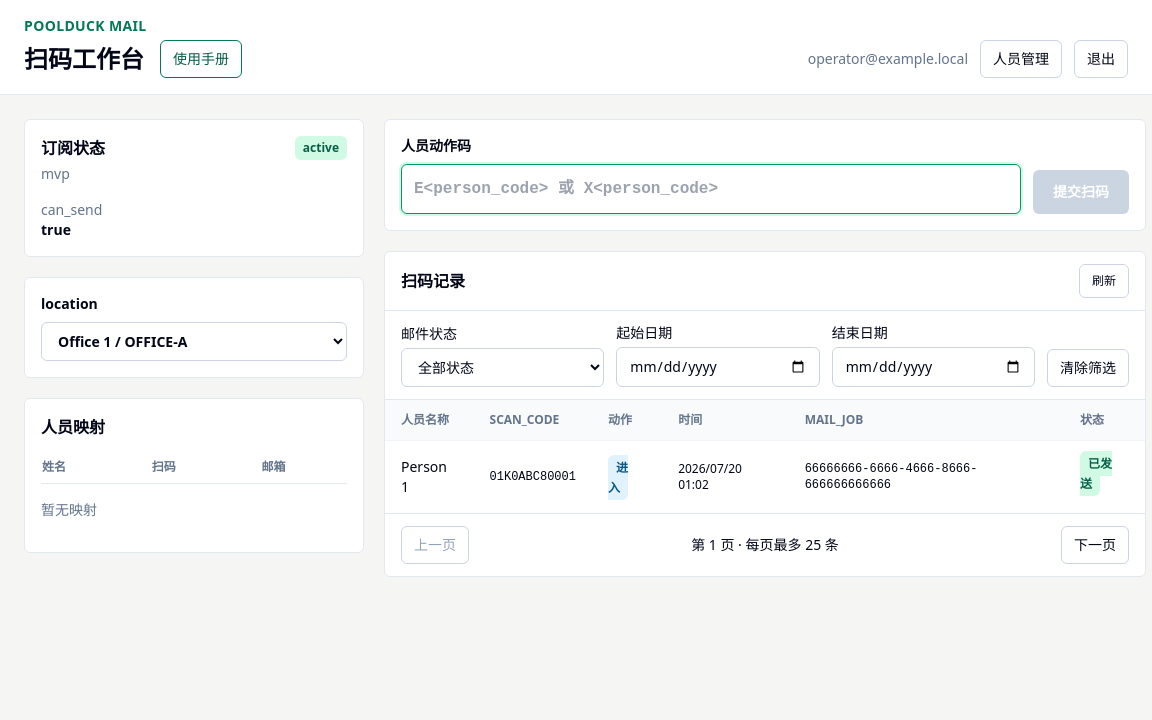
Test: history workspace › sends status and local-day filters to the server and resets cursor on filter or location changes
The width and height of the screenshot is (1152, 720).
Expected: the text "Person 1" is shown, [385,440,474,513]
Click the button with test id "history-next" at (1095, 545), box [1061,526,1129,564]
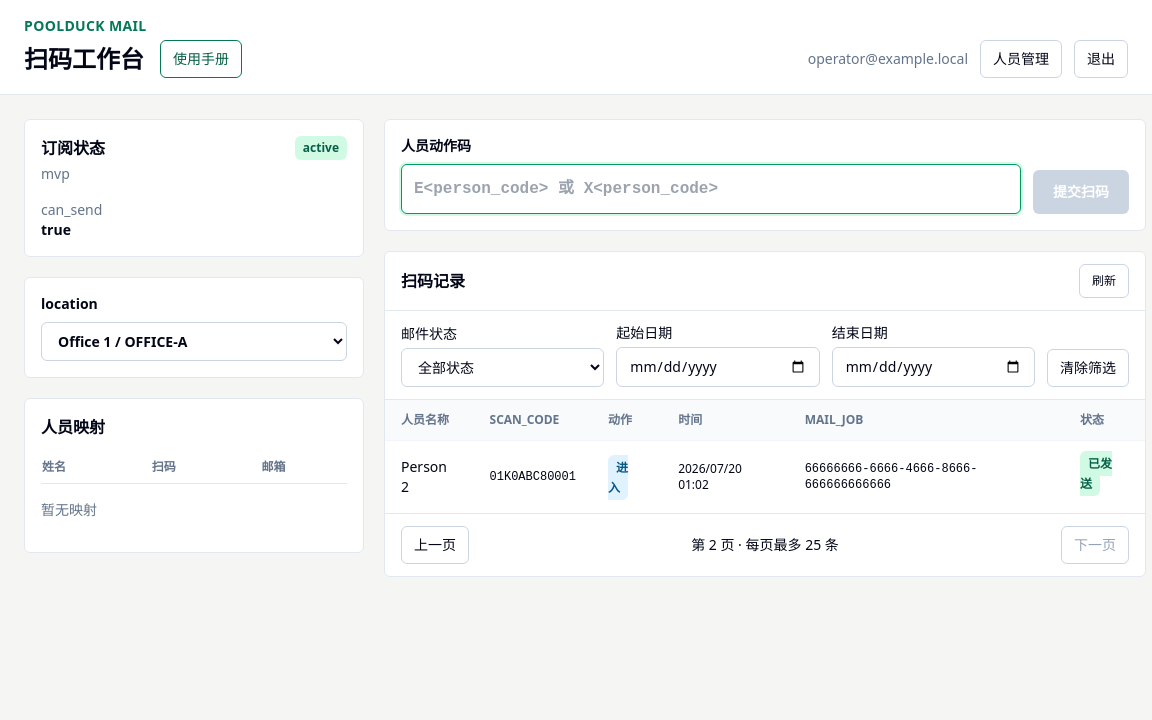
Expected: the text "Person 2" is shown, [385,440,474,513]
Select "可取消等待中（waiting）" in the dropdown with test id "history-status-filter" at (503, 368), box [401,348,604,387]
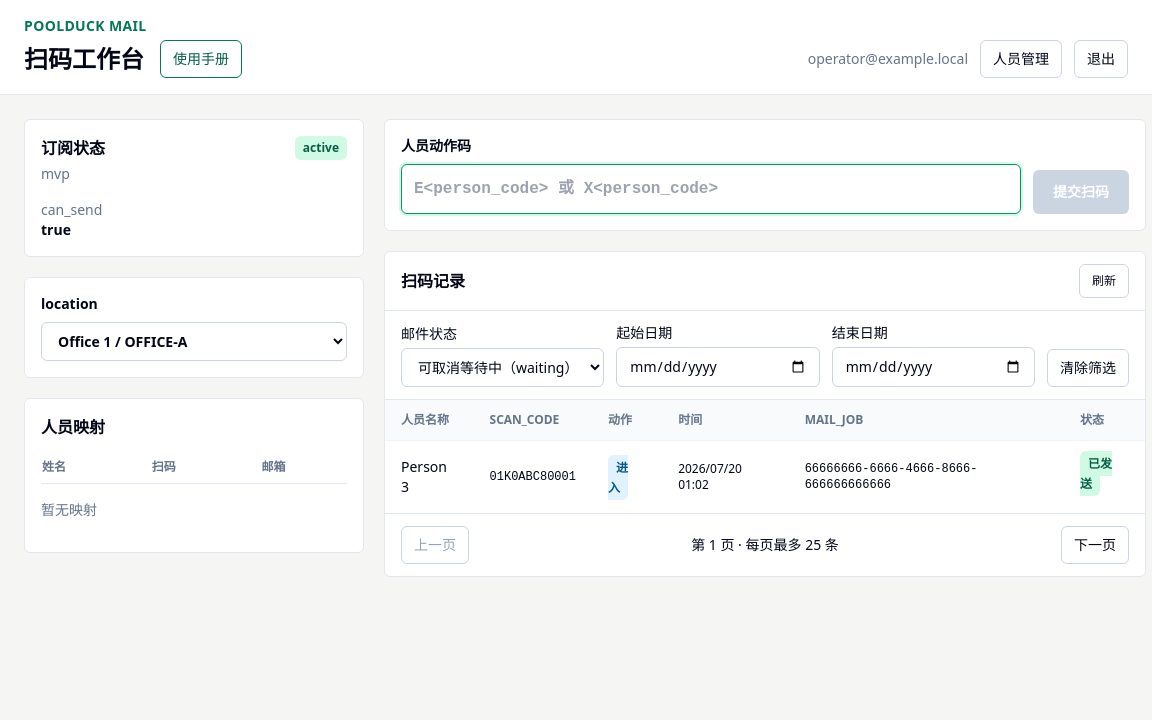
Expected: the text "Person 3" is shown, [385,440,474,513]
Expected: the text "第 1 页 · 每页最多 25 条" is shown, [691,535,839,555]
Type "2026-07-01" into the date field with test id "history-from-filter" at (718, 367), box [616,347,820,387]
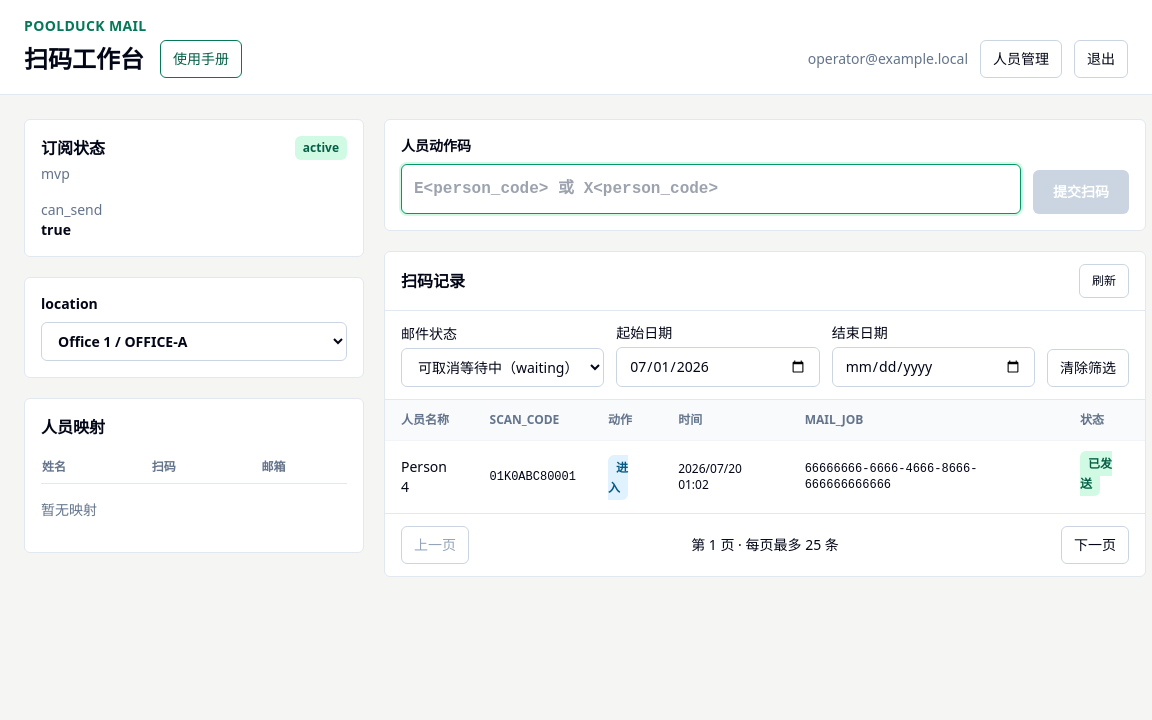
Expected: the text "Person 4" is shown, [385,440,474,513]
Type "2026-07-02" into the date field with test id "history-to-filter" at (933, 367), box [832,347,1035,387]
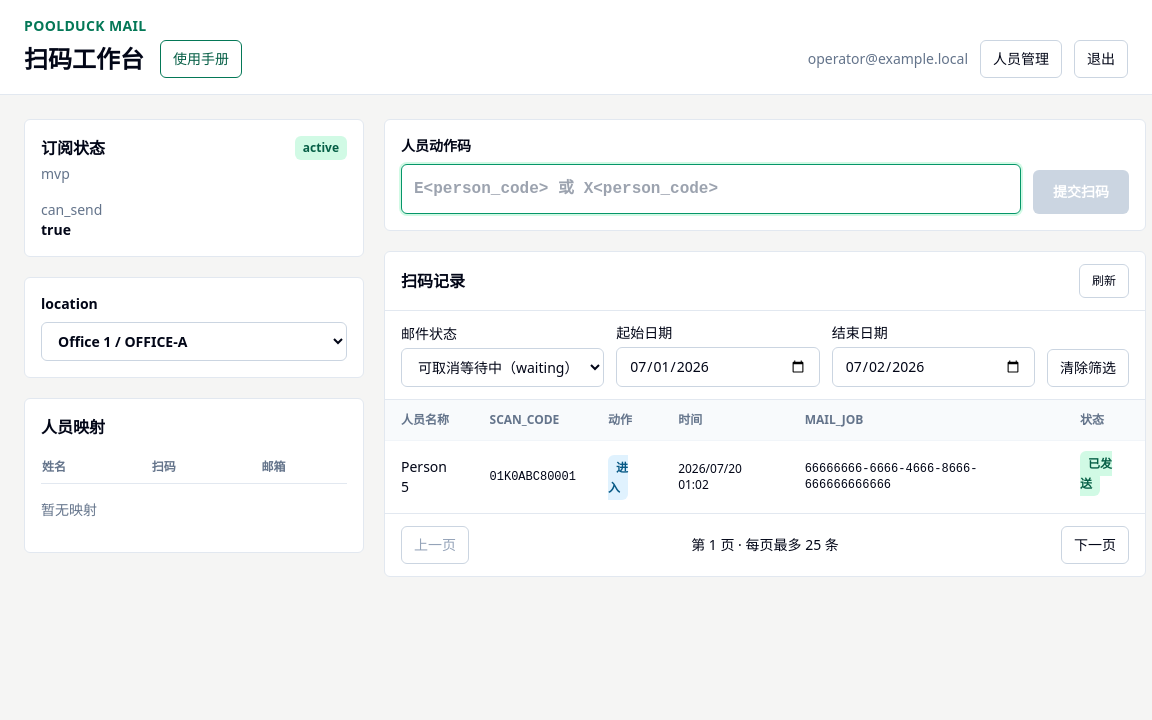
Expected: the text "Person 5" is shown, [385,440,474,513]
Select "Office 2 / OFFICE-A" in the dropdown with test id "location-select" at (194, 342), box [41,322,347,361]
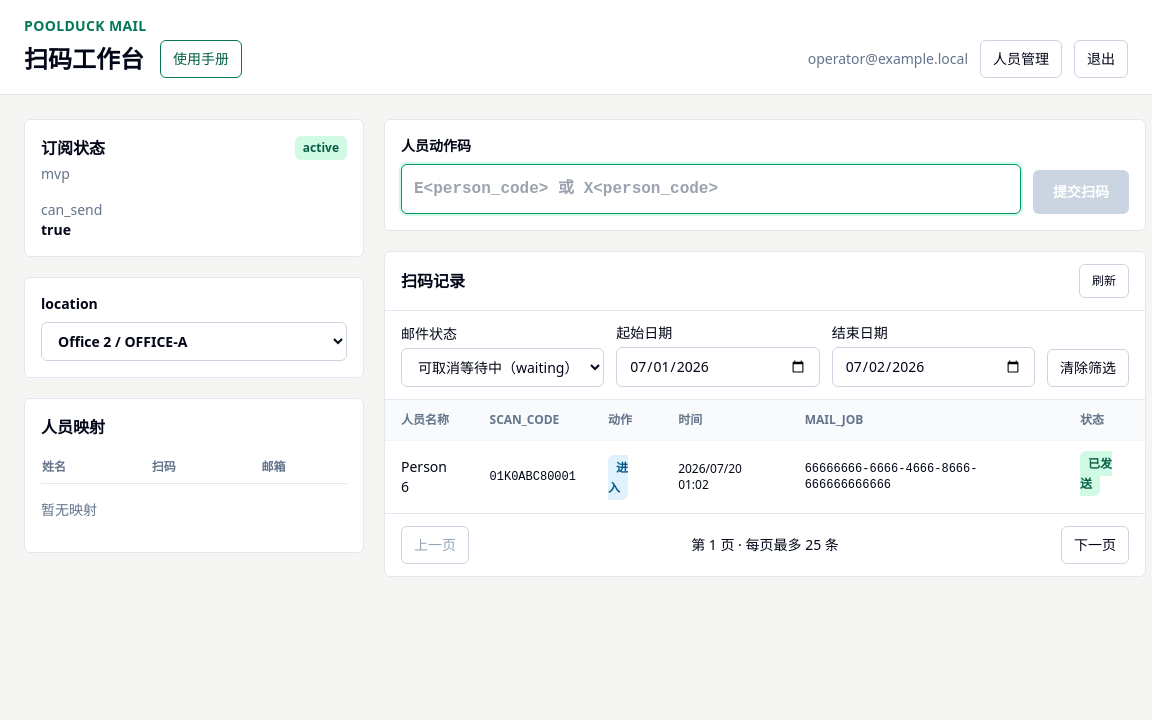
Expected: the text "Person 6" is shown, [385,440,474,513]
Click the button with test id "history-clear-filters" at (1088, 368), box [1047,349,1129,387]
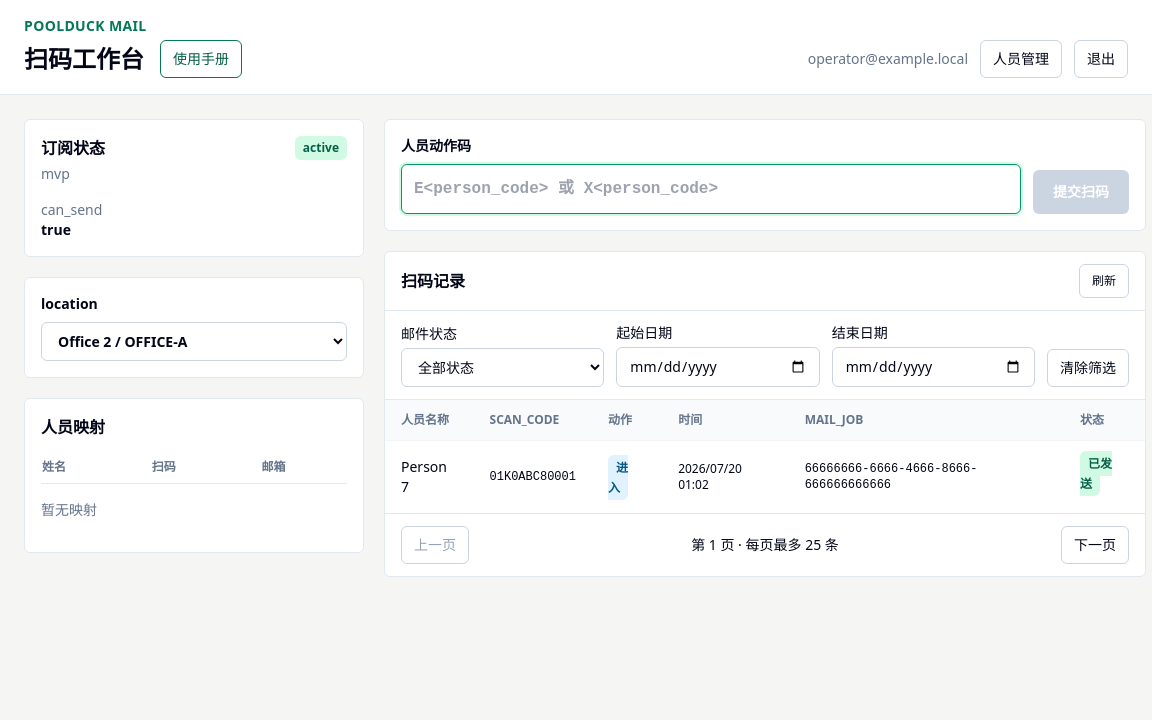
Expected: the text "Person 7" is shown, [385,440,474,513]
